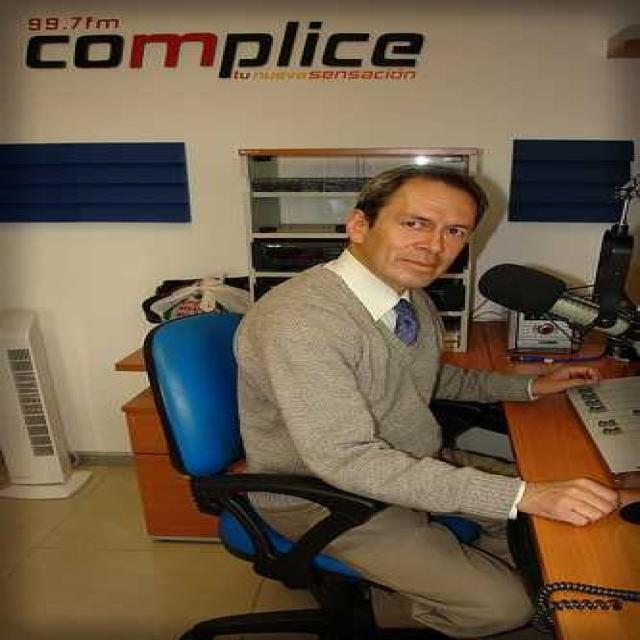microphone: (476, 264, 630, 339)
